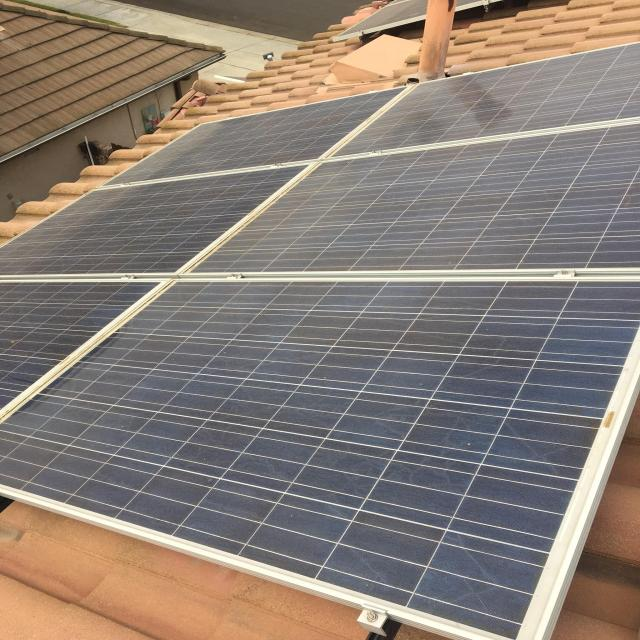dust-solar-panel: (2, 45, 638, 640)
